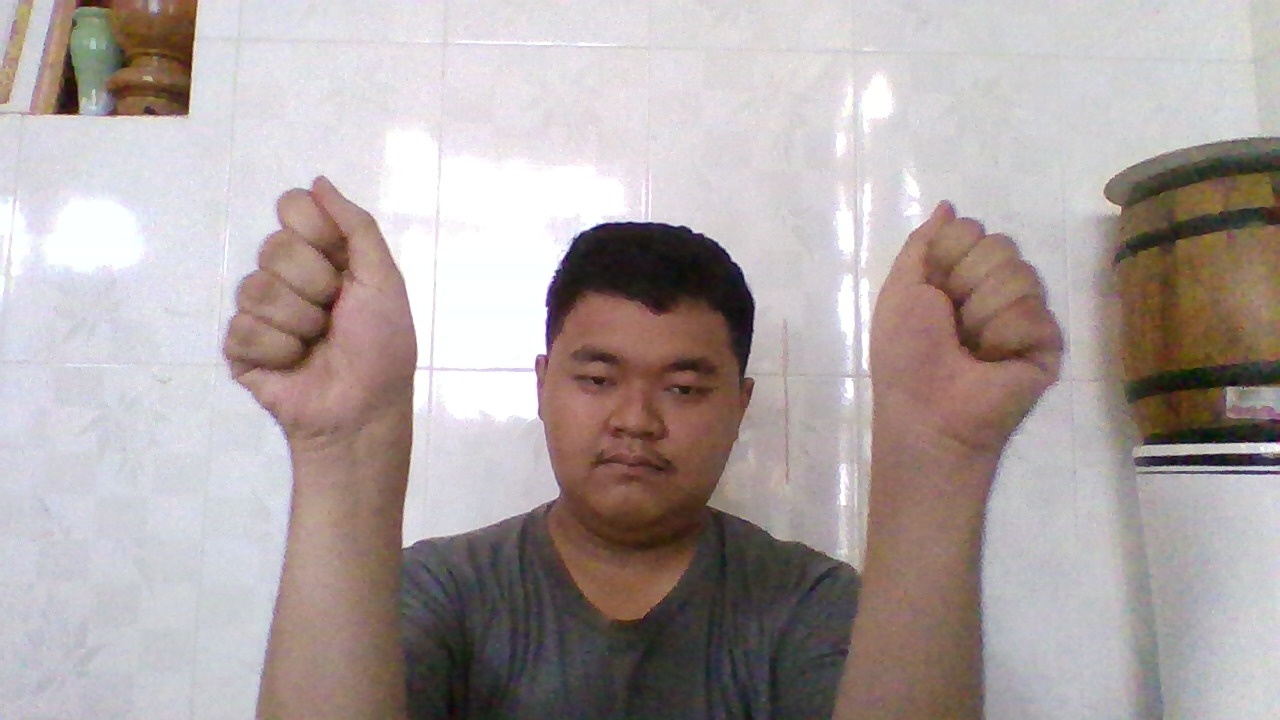A: (226, 173, 412, 414), (876, 196, 1052, 414)
